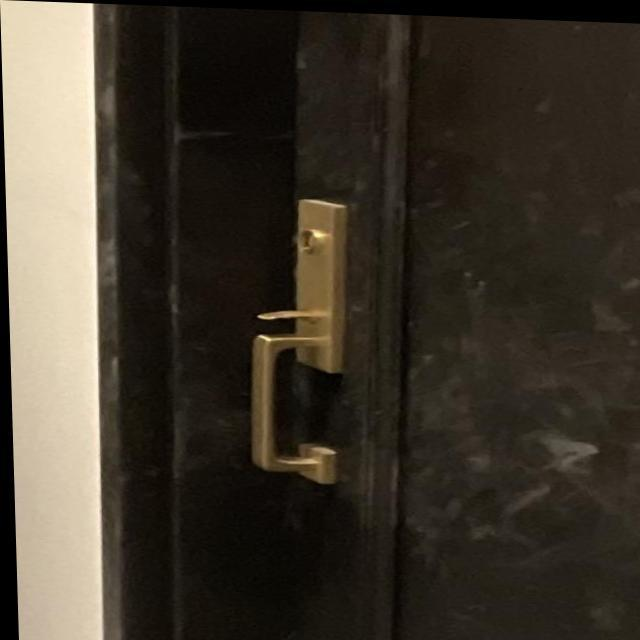door_handle: (210, 321, 372, 497)
